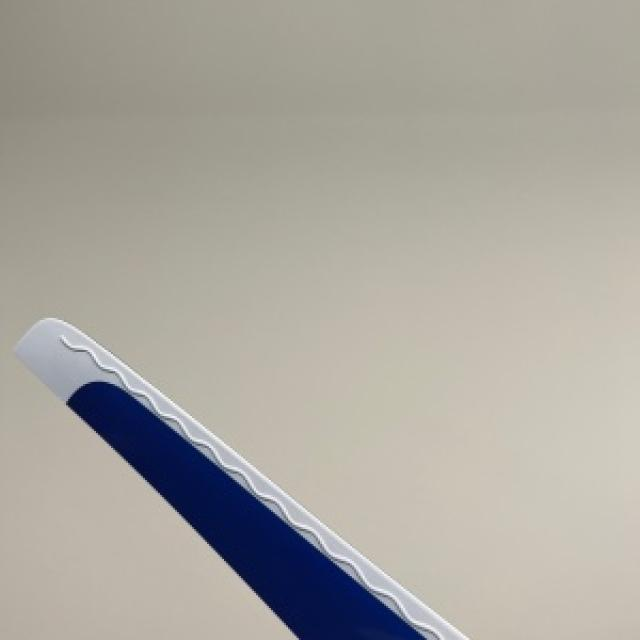healthy: (13, 318, 467, 638)
